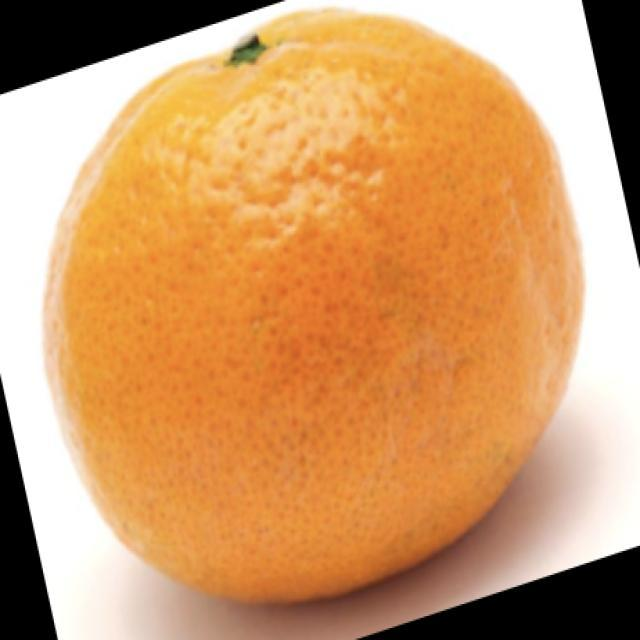matang: (45, 10, 582, 600)
